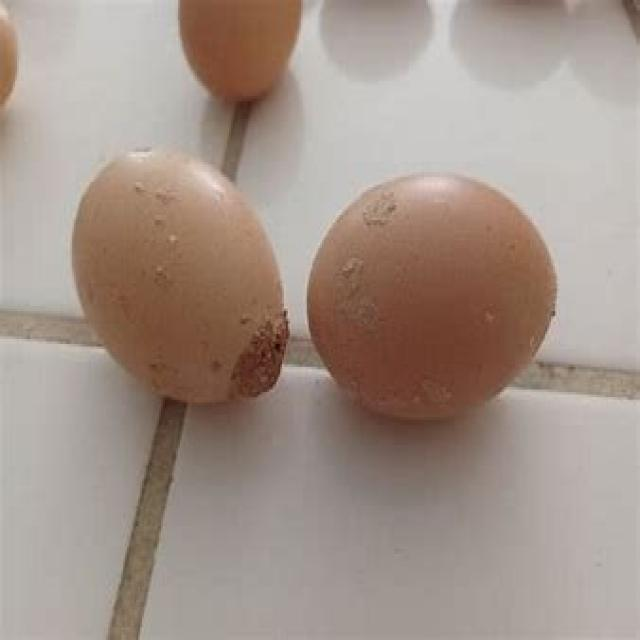Calcium Deposit Egg: (308, 157, 585, 452), (65, 138, 295, 420)
